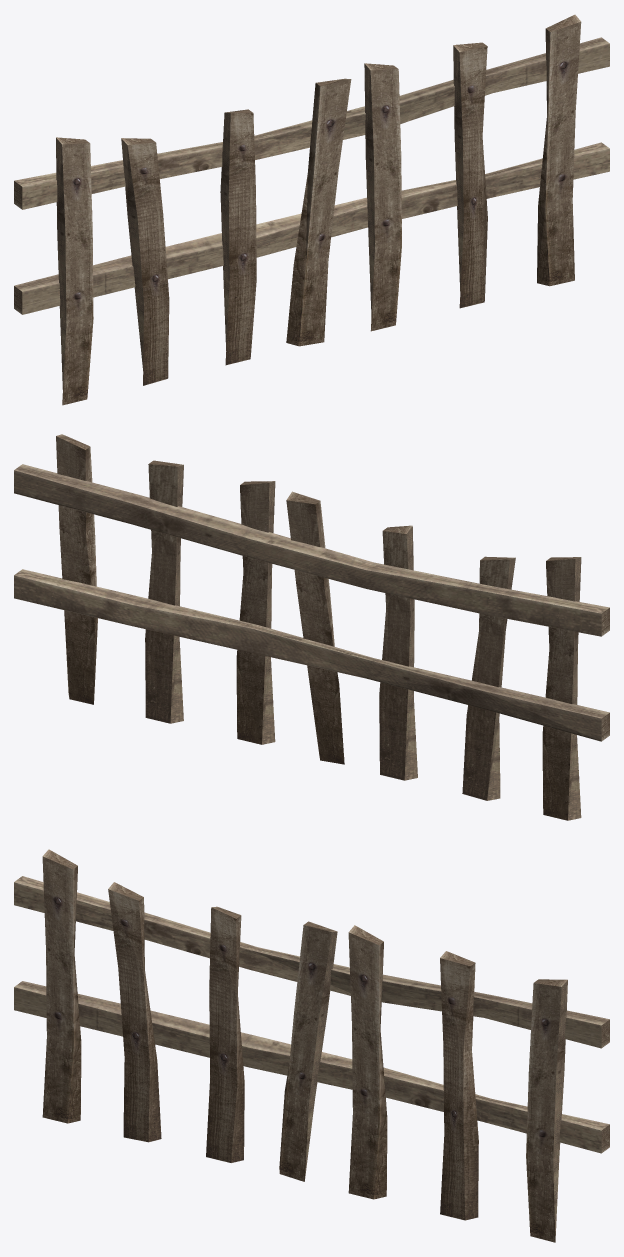
The model's file is Crude_Wooden_Fence.dae.
3 views of the same model, one above another, from view 1: azimuth 30°, elevation 25°; view 2: azimuth 150°, elevation 25°; view 3: azimuth 330°, elevation 25° (orthographic).
Visible parts, largest first — view 1: WoodenFence1; view 2: WoodenFence1; view 3: WoodenFence1.
Boxes of the visible parts, x1,y1,x2,y2 form: WoodenFence1: (14, 14, 609, 405); WoodenFence1: (14, 434, 609, 820); WoodenFence1: (14, 849, 609, 1242).
Bounding box in the file's own units: 4 × 1.72 × 0.1979.
1 material, 1 textured.
